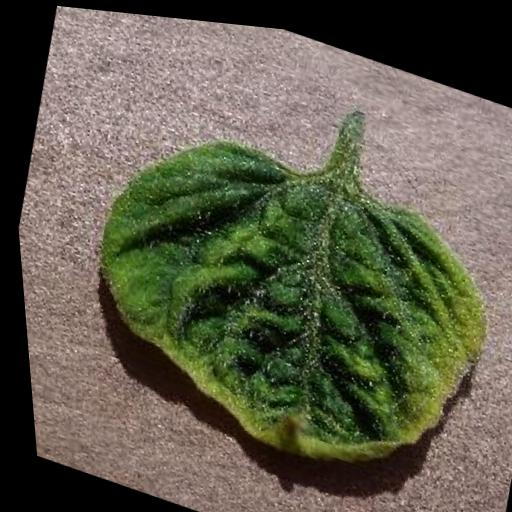Yellow Leaf Curl Virus: (46, 88, 512, 510)
